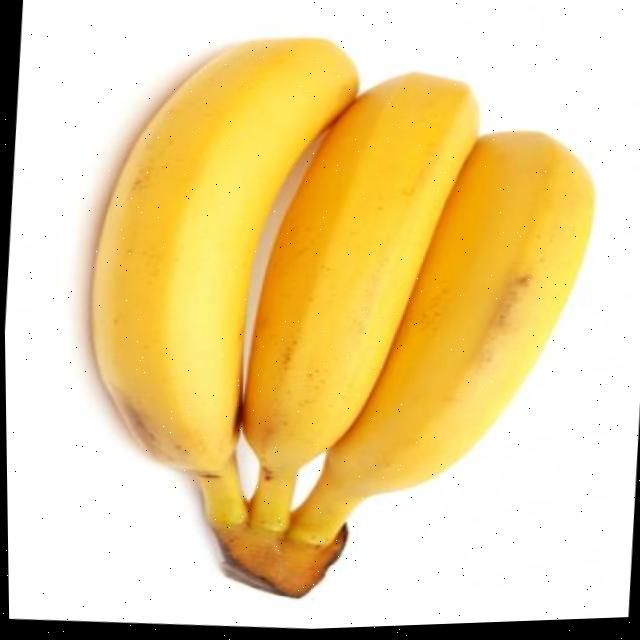Banana: (287, 136, 593, 546), (91, 40, 355, 473), (241, 76, 476, 533)
